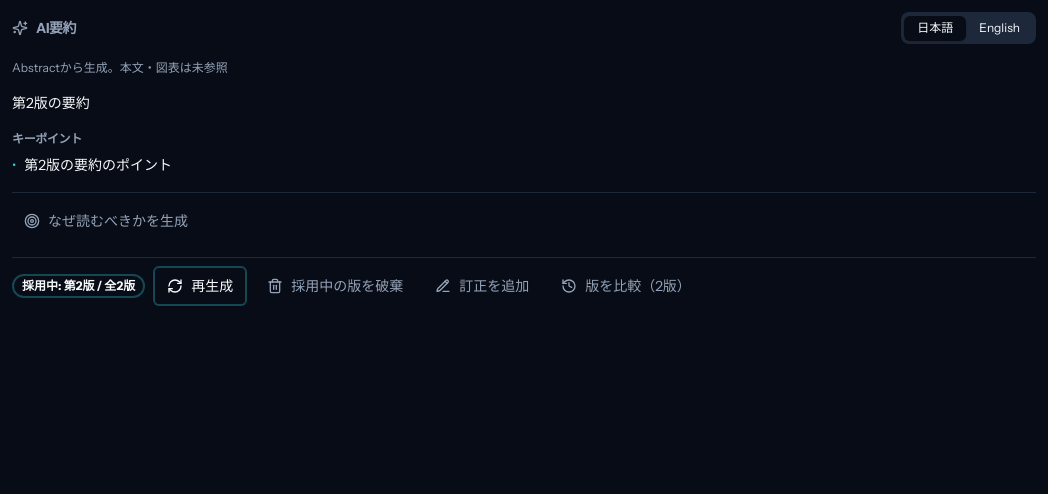
Test: PaperSummary › 版の再生成・破棄・比較 › 正常系: 版を並べて比較し、旧版を採用すると表示が切り替わり、再読込後も維持される
Check: the text "採用中: 第2版 / 全2版" is shown, box x1=12 y1=274 x2=145 y2=298
Click the button "版を比較（2版）". click: (626, 286)
box: x1=549 y1=266 x2=703 y2=306
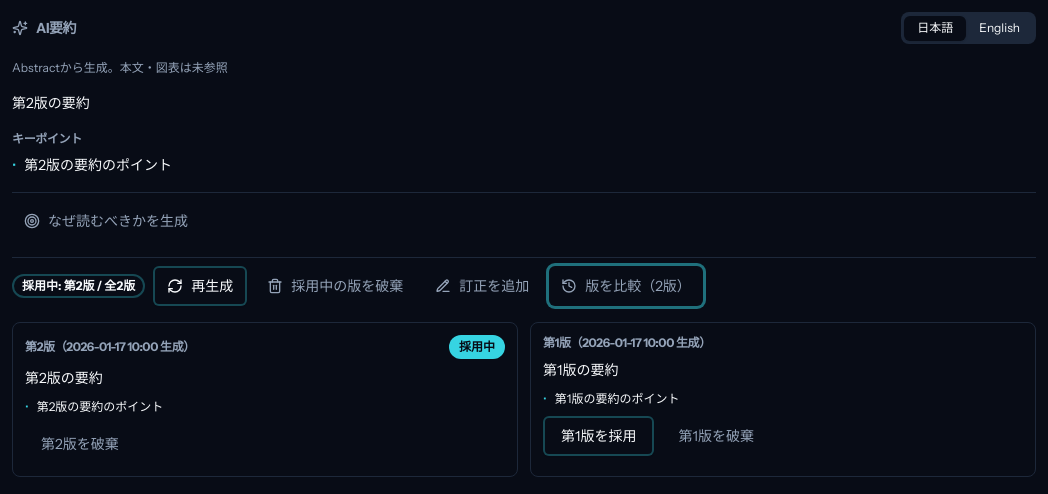
Check: the text "第1版の要約" is shown, box x1=543 y1=361 x2=618 y2=379
Check: the 2nd text "第2版の要約" is shown, box x1=25 y1=369 x2=103 y2=387
Check: the text "採用中" is shown, box x1=449 y1=335 x2=505 y2=359
Click the button "第1版を採用". click: (599, 436)
box: x1=543 y1=416 x2=654 y2=456
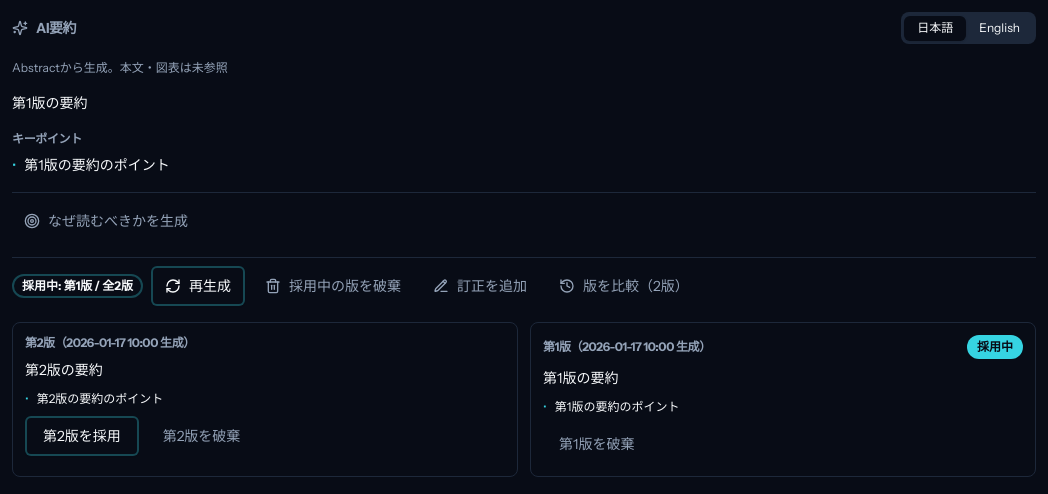
Check: the text "採用中: 第1版 / 全2版" is shown, box x1=12 y1=274 x2=143 y2=298
